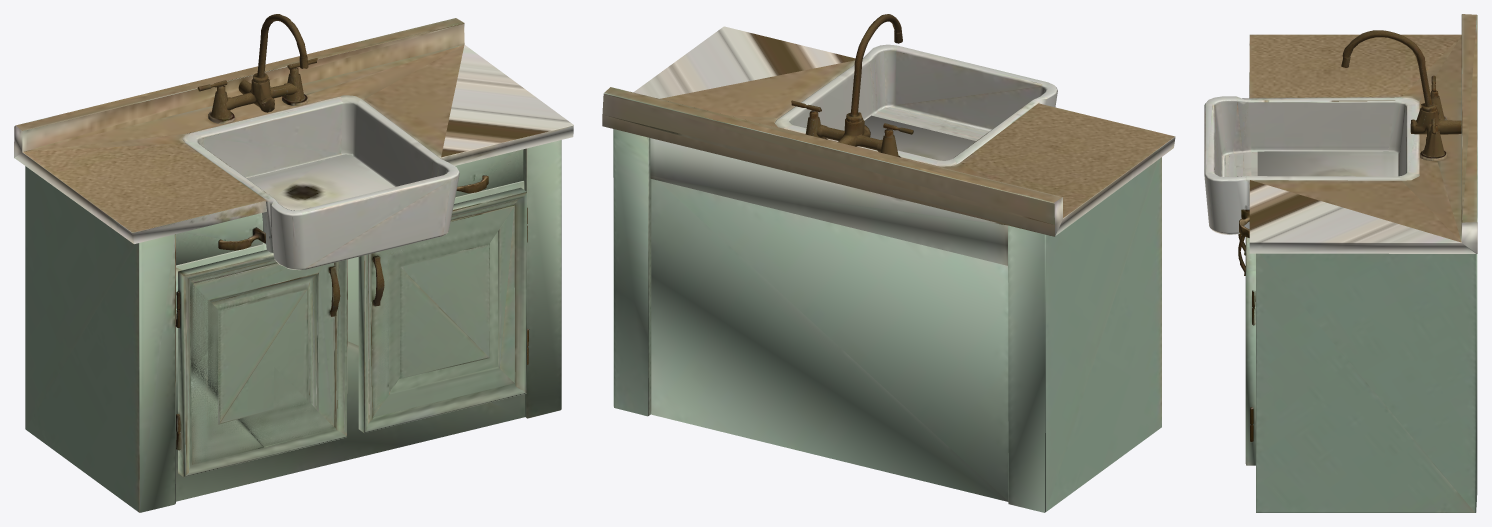
Rendered from kitchen_counter.glb.
3 renders of one model, left to right at view 1: azimuth 30°, elevation 25°; view 2: azimuth 150°, elevation 25°; view 3: azimuth 270°, elevation 25°, orthographic. The views are drawn at different scales.
Size of the model in its own units: 0.957 by 0.8203 by 0.5302.
1 material, 1 textured.
